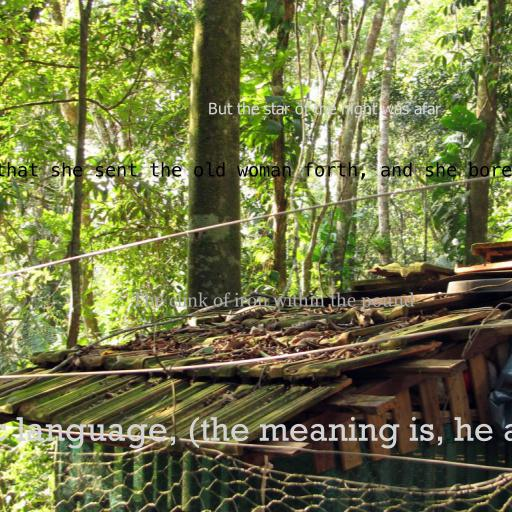Georgia: (131, 292, 415, 311)
Menlo: (0, 162, 512, 180)
Rockwell: (0, 416, 512, 449)
Tahoma: (207, 102, 441, 118)
